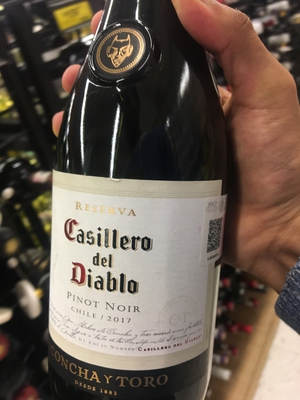casillero del diablo pinot noir: (47, 22, 233, 400)
